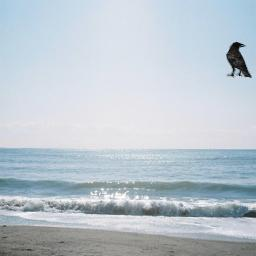Crow: (226, 42, 252, 78)
